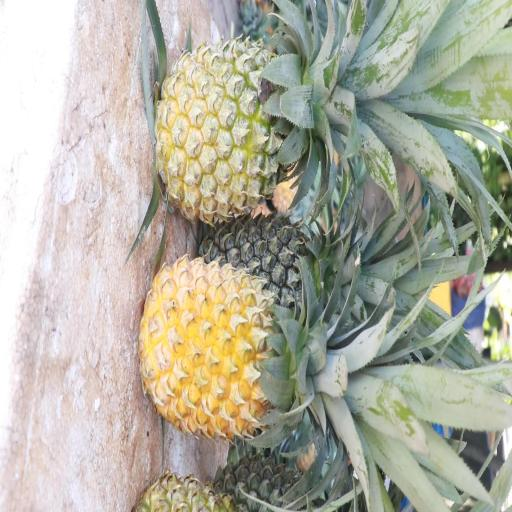------------------------------: (162, 40, 327, 213)
Pineapple - v8 v1: (145, 261, 326, 437)
